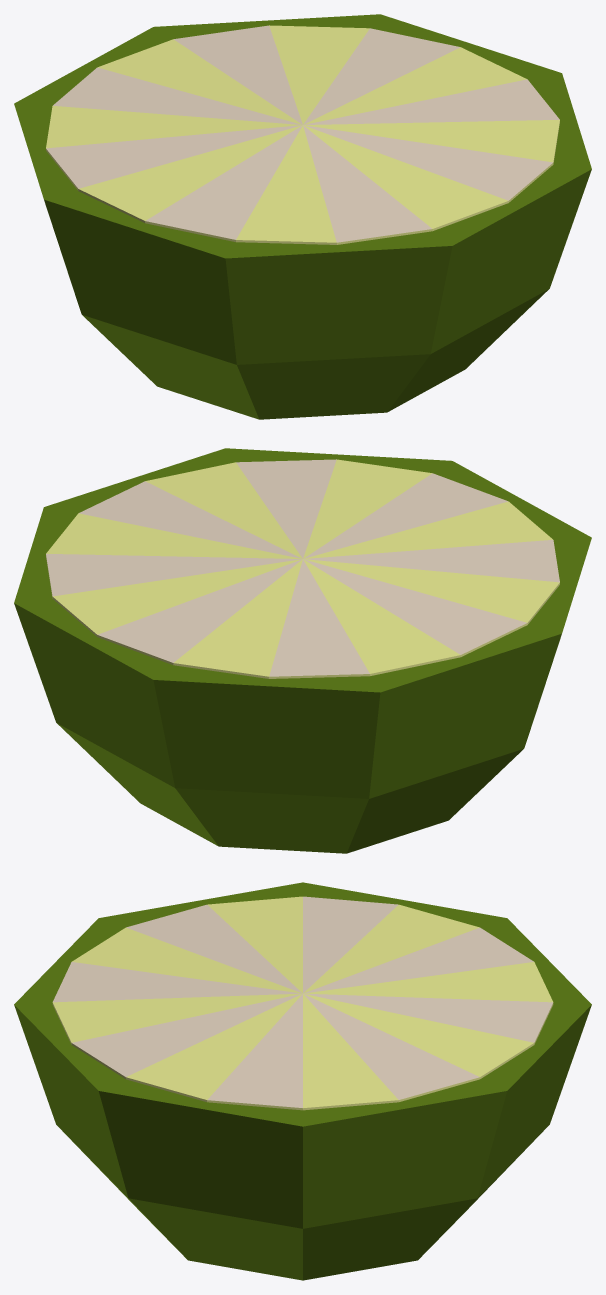
File: SM_Cook_LimeHalf_01.fbx
3 renders of one model, top to bottom at view 1: azimuth 30°, elevation 25°; view 2: azimuth 150°, elevation 25°; view 3: azimuth 270°, elevation 25°, orthographic. The views are drawn at different scales.
Parts seen in each view (by area): view 1: SM_Cook_LimeHalf_01; view 2: SM_Cook_LimeHalf_01; view 3: SM_Cook_LimeHalf_01.
Part boxes in pixels (left/top/right/bottom): SM_Cook_LimeHalf_01: left=14, top=14, right=591, bottom=419; SM_Cook_LimeHalf_01: left=14, top=448, right=591, bottom=853; SM_Cook_LimeHalf_01: left=14, top=882, right=591, bottom=1280.
Size of the model in its own units: 0.048 by 0.024 by 0.048.
Materials: 1 (1 with a texture image).
